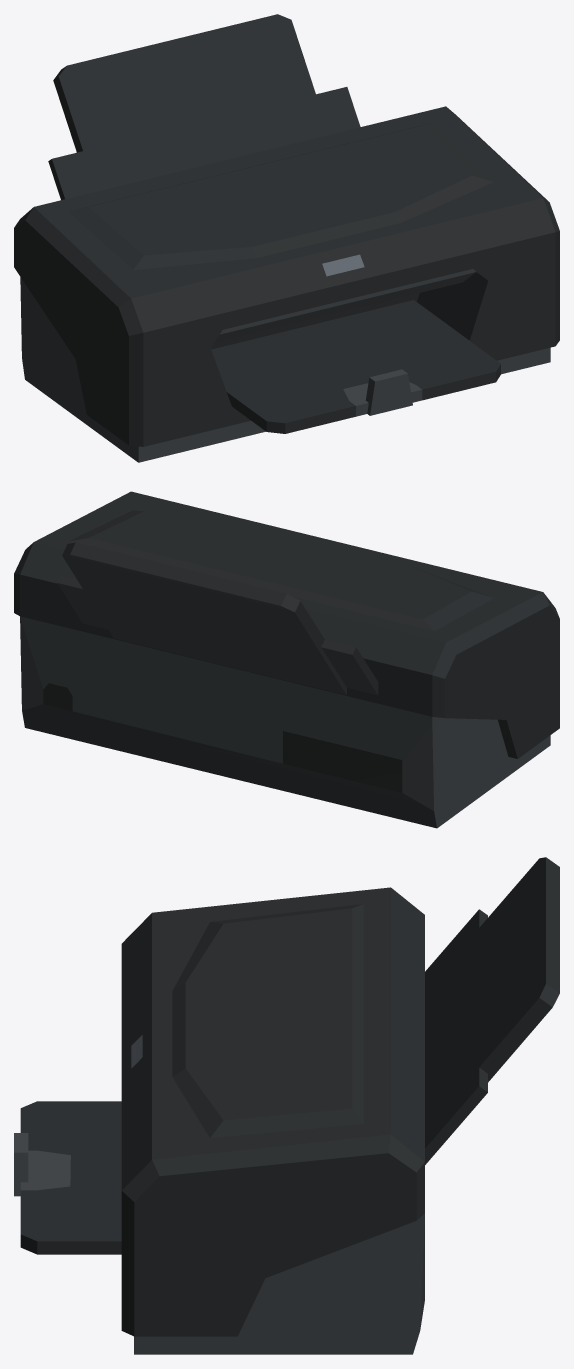
Rendered from SM_Prop_Computer_Printer_02.obj.
3 renders of one model, top to bottom at view 1: azimuth 30°, elevation 25°; view 2: azimuth 150°, elevation 25°; view 3: azimuth 270°, elevation 25°, orthographic. The views are drawn at different scales.
Parts seen in each view (by area): view 1: SM_Prop_Computer_Printer_02_0; view 2: SM_Prop_Computer_Printer_02_0; view 3: SM_Prop_Computer_Printer_02_0.
Part boxes in pixels (<box>): SM_Prop_Computer_Printer_02_0: <box>14,14,559,462</box>; SM_Prop_Computer_Printer_02_0: <box>14,491,559,828</box>; SM_Prop_Computer_Printer_02_0: <box>14,857,559,1354</box>.
Size of the model in its own units: 0.5802 by 0.3227 by 0.5181.
1 material, 1 textured.
